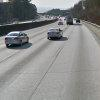Car: (3, 26, 31, 51)
